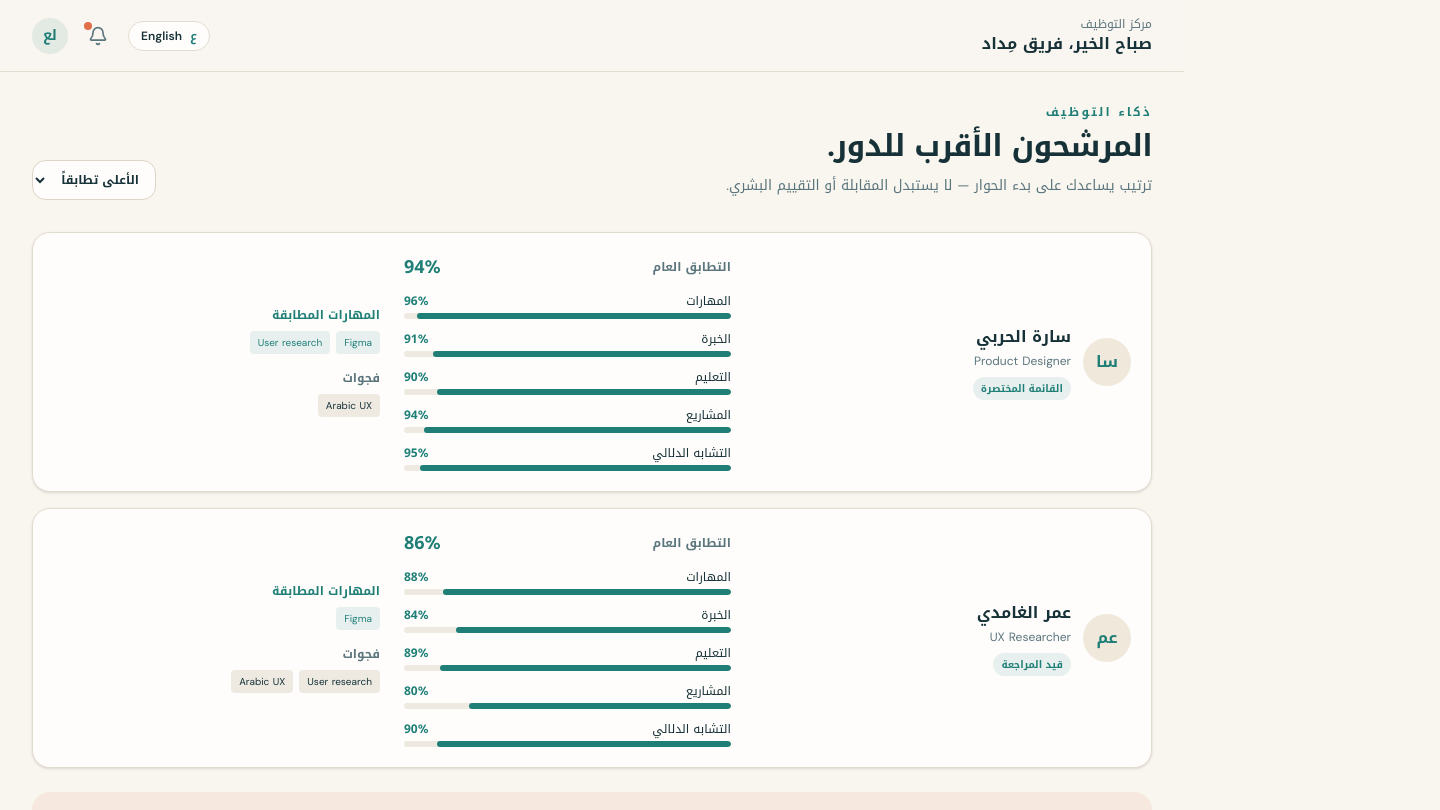
Scenario: role workflow connections › connects candidate ranking to a candidate review page
This screenshot has width=1440, height=810.
Step 1. Click the link with test id "link-candidate-u-8" → (1023, 336), box 976,320 -> 1071,352
(page scrolled)
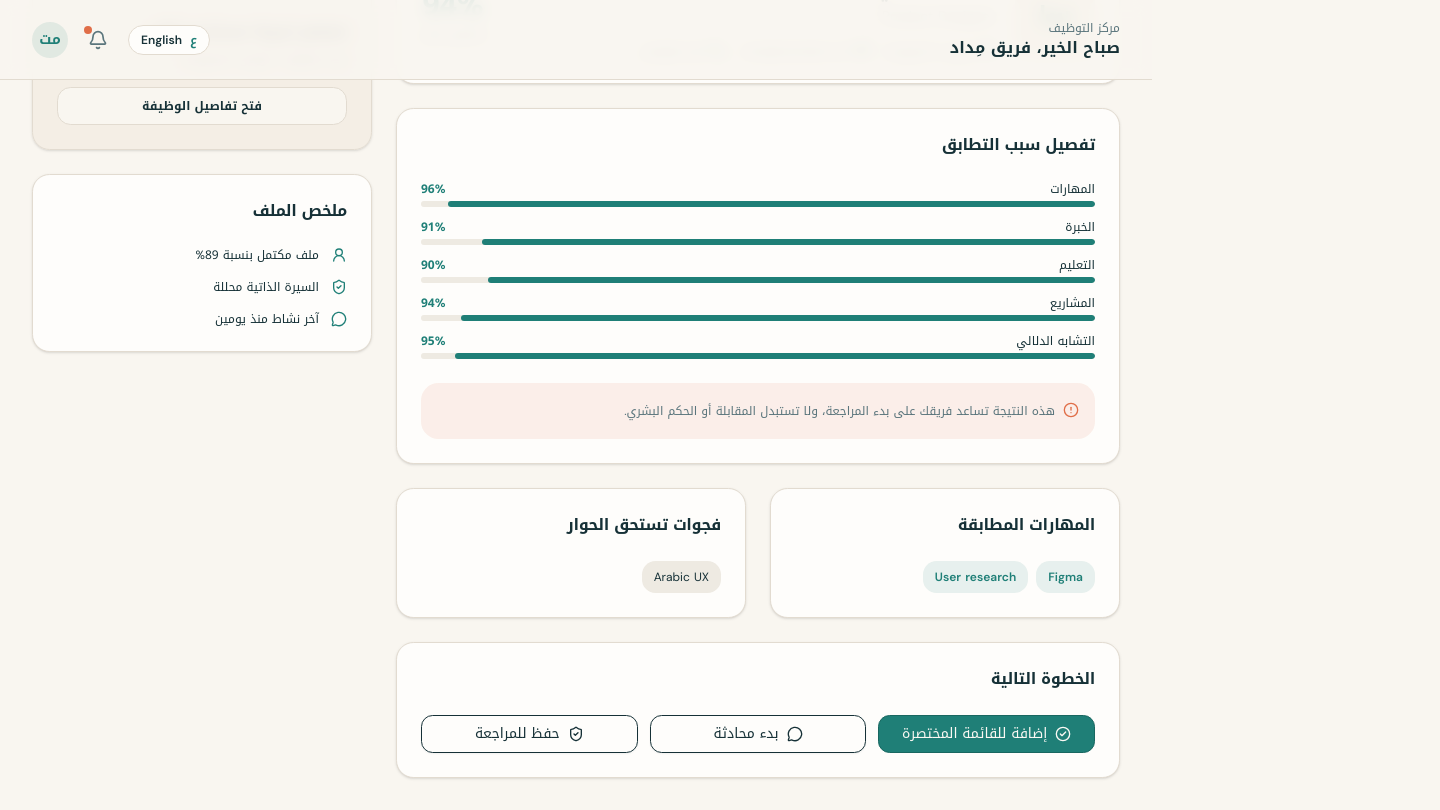
Expected: the button with test id "button-shortlist-candidate" is shown
Step 2. Click the button with test id "button-shortlist-candidate" → (987, 734), box 878,715 -> 1095,753
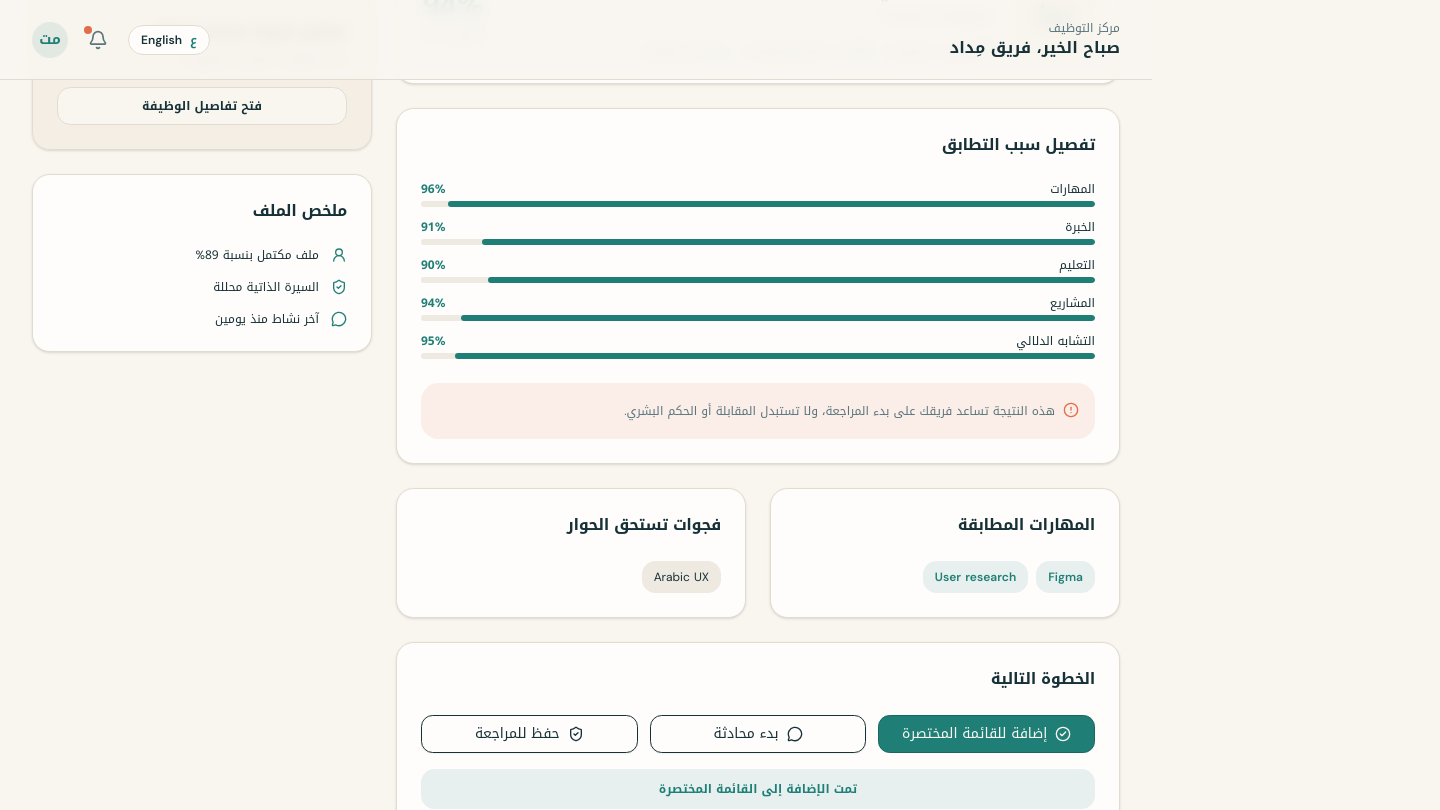
Expected: the message "تمت الإضافة إلى القائمة المختصرة" is shown, 421,769 -> 1095,809
